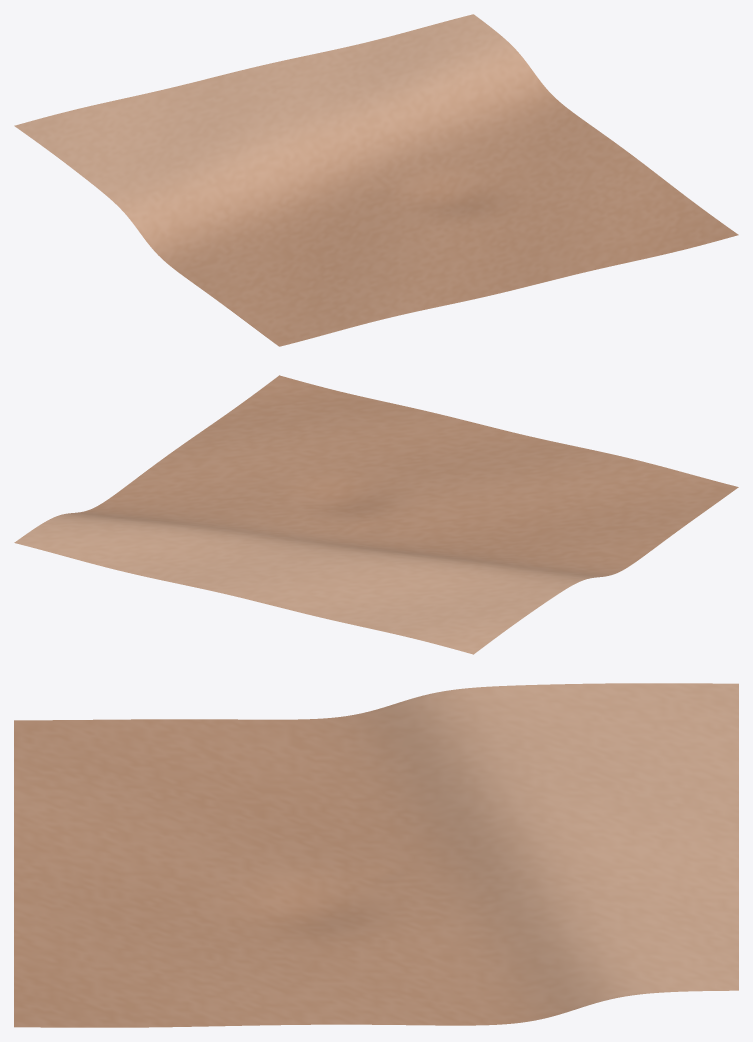
Rendered from perseverance_jezero.glb.
3 views of the same model, one above another, from view 1: azimuth 30°, elevation 25°; view 2: azimuth 150°, elevation 25°; view 3: azimuth 270°, elevation 25° (orthographic). The views are drawn at different scales.
Parts seen in each view (by area): view 1: TYPE_TILE_ID_0___MD_1_Perseverance_Jezero_Delta; view 2: TYPE_TILE_ID_0___MD_1_Perseverance_Jezero_Delta; view 3: TYPE_TILE_ID_0___MD_1_Perseverance_Jezero_Delta.
Boxes of the visible parts, bbox=[...] form: TYPE_TILE_ID_0___MD_1_Perseverance_Jezero_Delta: bbox=[14, 14, 738, 346]; TYPE_TILE_ID_0___MD_1_Perseverance_Jezero_Delta: bbox=[14, 375, 738, 654]; TYPE_TILE_ID_0___MD_1_Perseverance_Jezero_Delta: bbox=[14, 683, 738, 1027].
Bounding box in the file's own units: 120 × 7.87 × 120.
